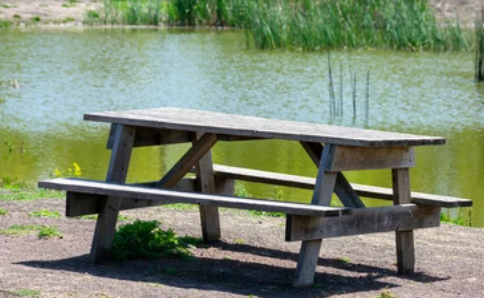obstacle: (37, 103, 475, 282)
